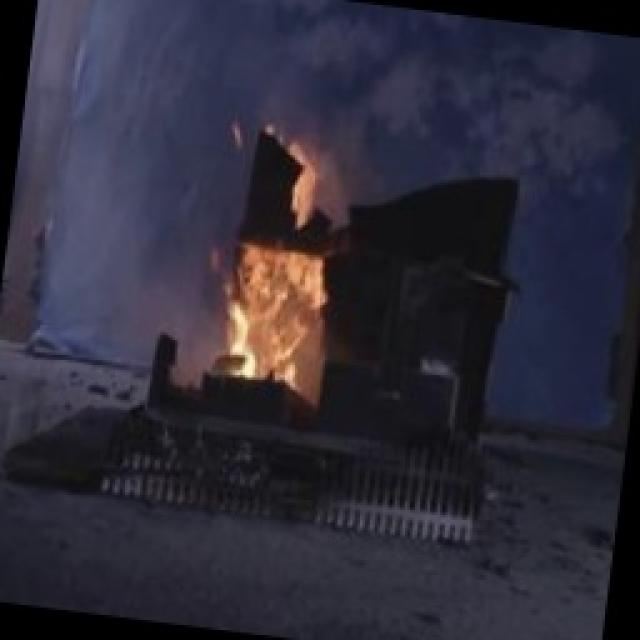fire: (188, 124, 382, 391)
